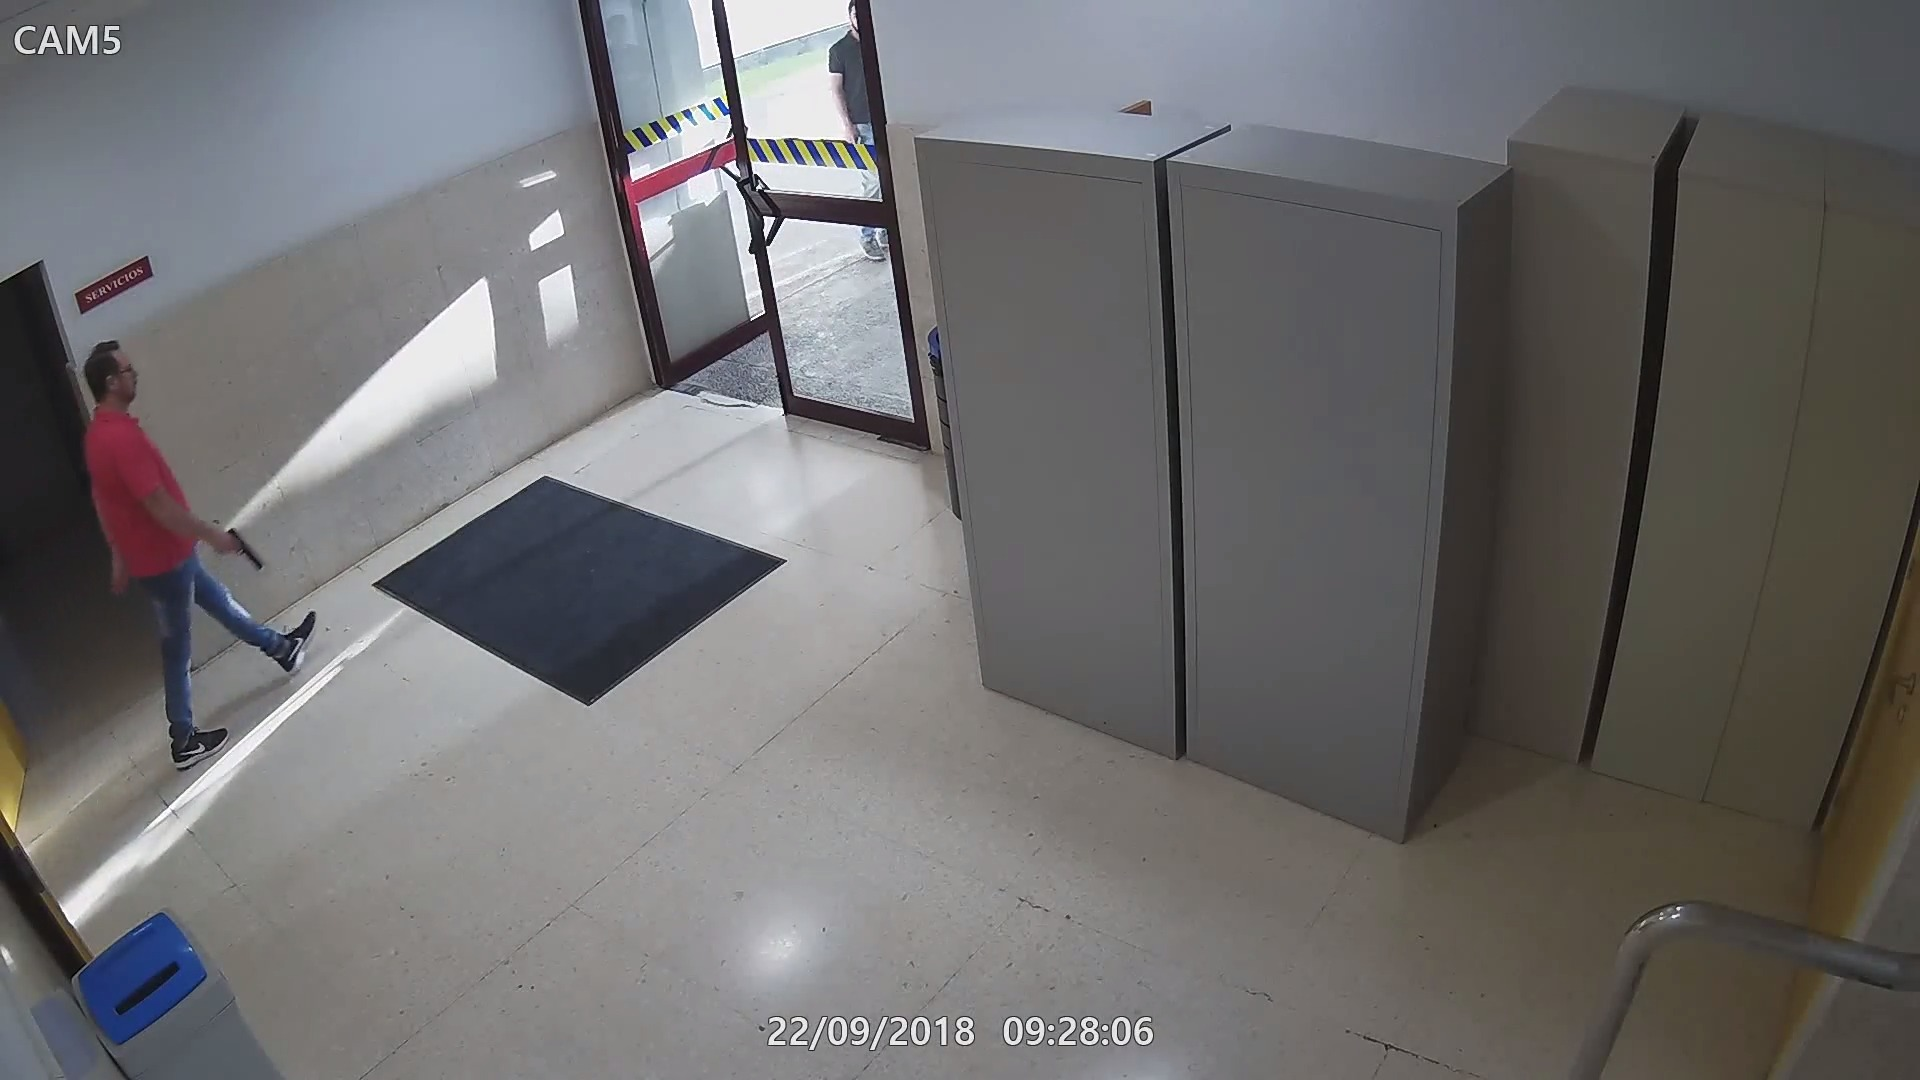pistol: (195, 518, 264, 578)
